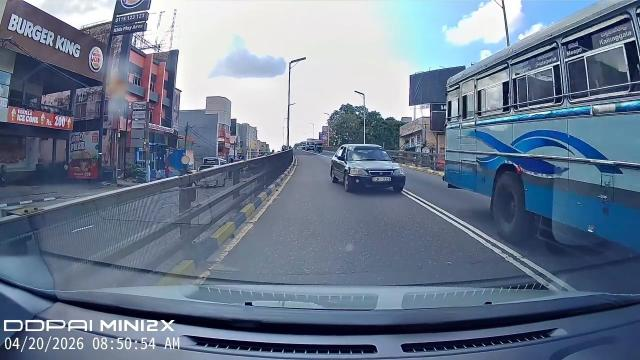illegal overtaking: (329, 142, 411, 200)
number plate: (371, 174, 393, 183)
